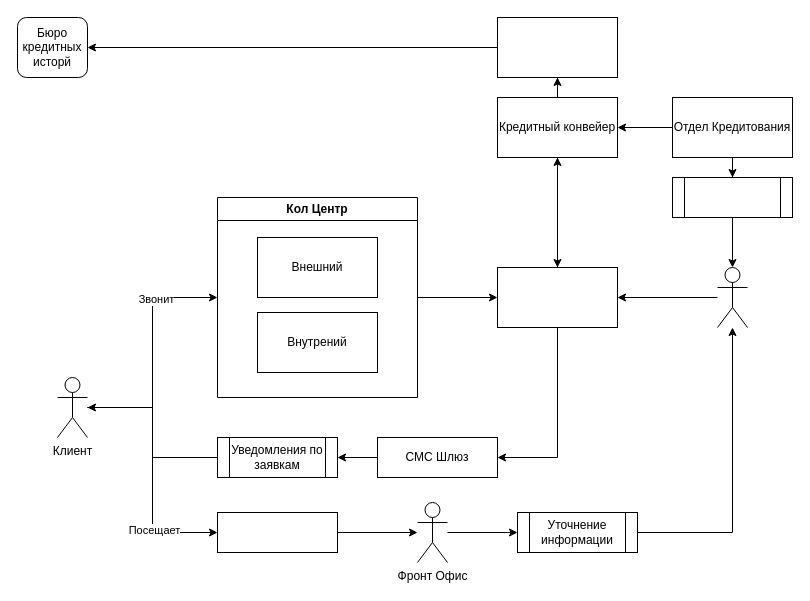
Some shapes in this 810 by 601 pixel diagram are drawn without their labels. The centre of each missing label's shape, as x and y in pixels:
"АБС" belongs at point 557,297.
"Бэк Офис" belongs at point 732,297.
"Отделение банка" belongs at point 277,532.
"Скоринг" belongs at point 557,47.
"Ставки в Excel по почте" belongs at point 732,197.
